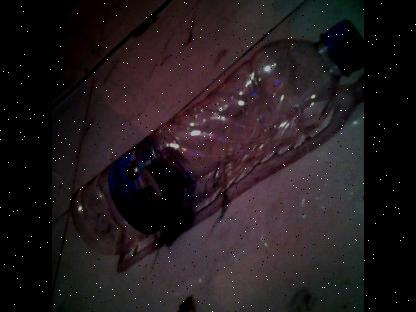Plastic Bottle: (62, 15, 364, 258)
